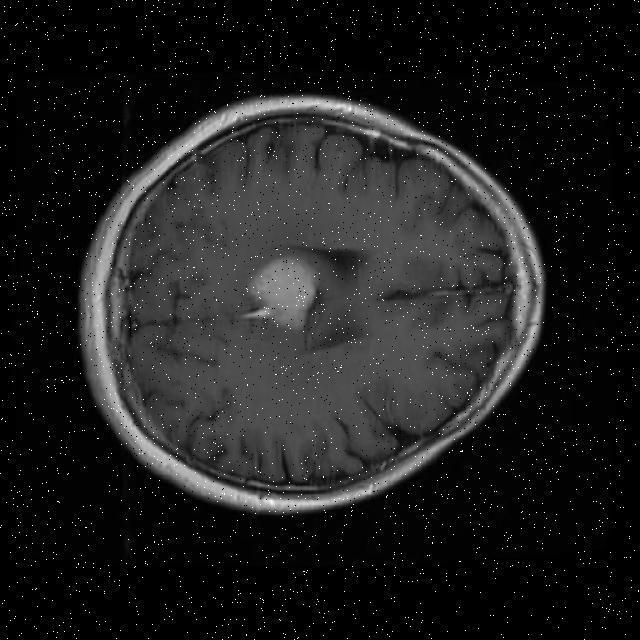Meningioma: (249, 257, 317, 329)
